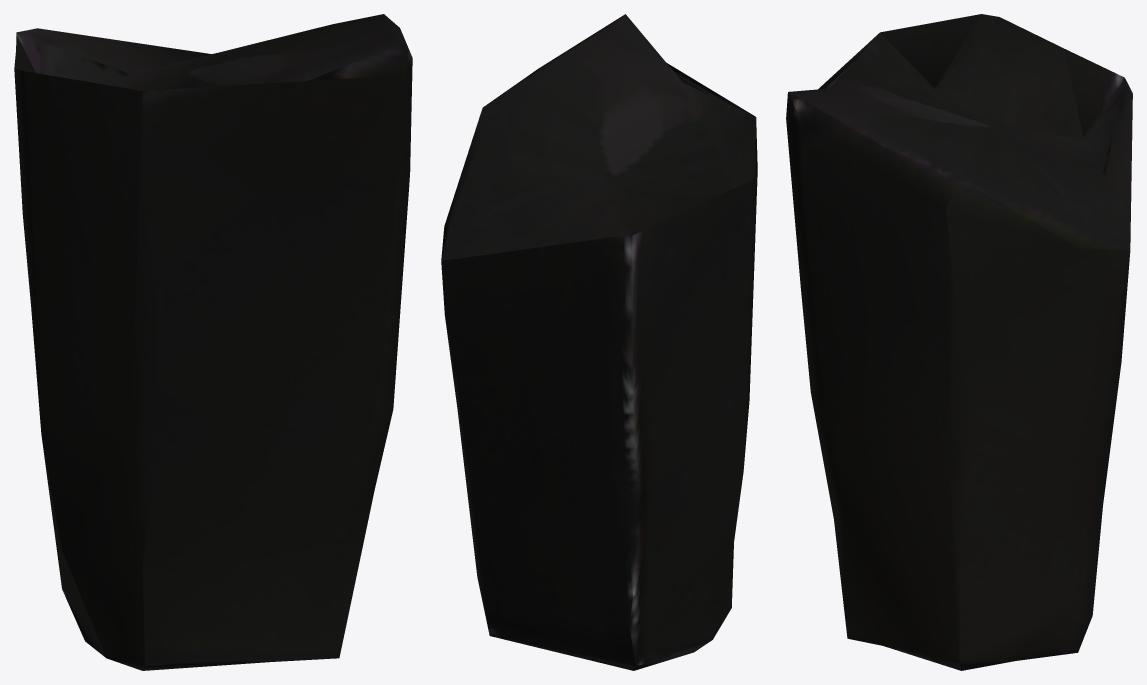
File: pierna-derecha-ca.obj
3 renders of one model, left to right at view 1: azimuth 30°, elevation 25°; view 2: azimuth 150°, elevation 25°; view 3: azimuth 270°, elevation 25°, orthographic. The views are drawn at different scales.
Parts seen in each view (by area): view 1: model.062; view 2: model.062; view 3: model.062.
Part boxes in pixels (box(x1,y1,x2,y2)): model.062: box(14, 14, 412, 670); model.062: box(441, 14, 757, 670); model.062: box(786, 14, 1132, 670).
Bounding box in the file's own units: 0.0462 × 0.0799 × 0.0441.
1 material, 1 textured.
